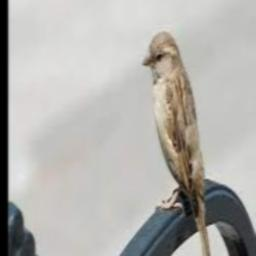Sparrow: (143, 31, 213, 256)
